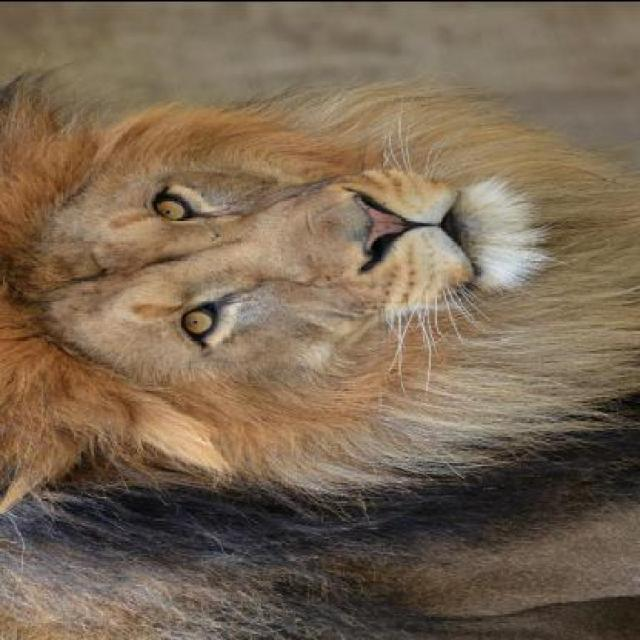Lion: (4, 71, 638, 635)
